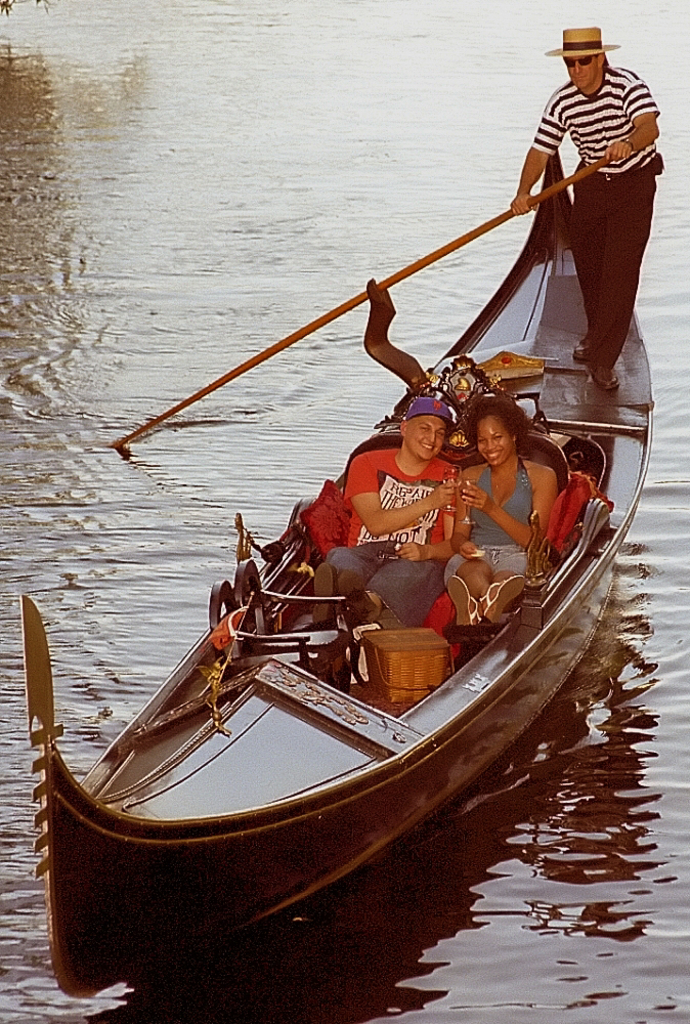Person: (510, 26, 664, 388), (307, 396, 467, 614), (456, 413, 564, 625)
